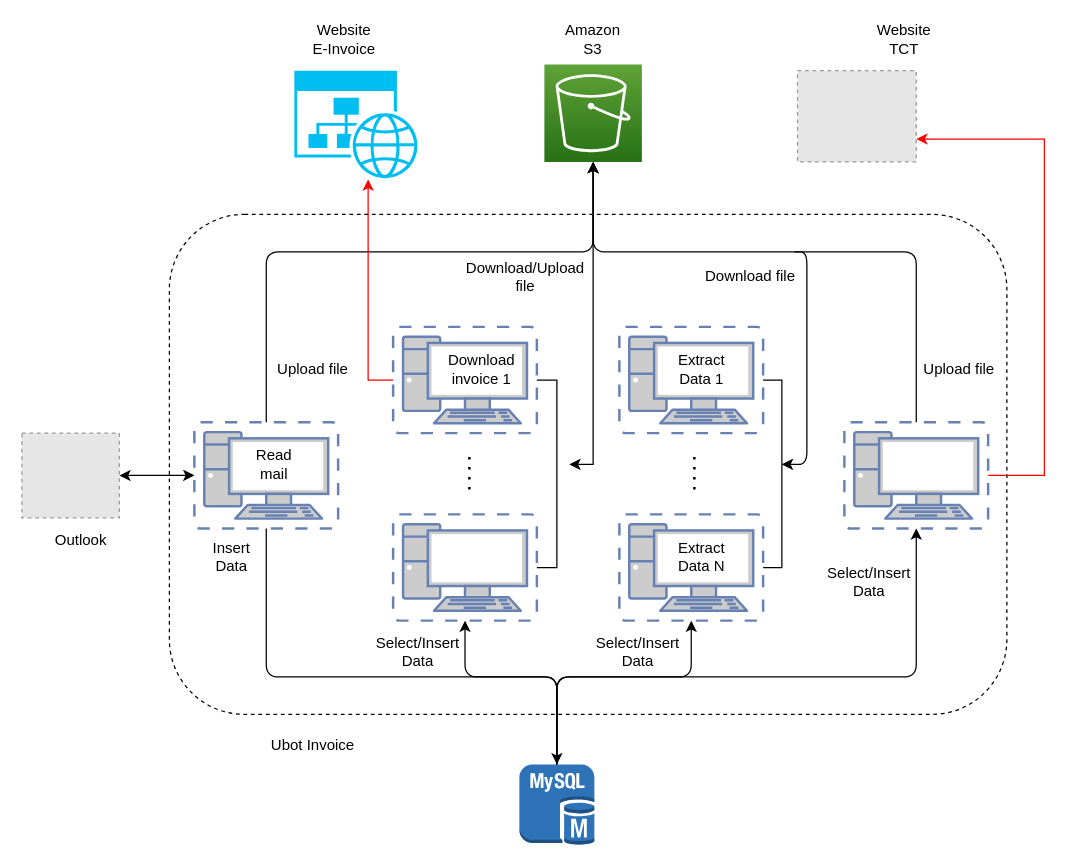
This 1076x868 diagram has some shape labels left out. Grey dashed boxes stand in for pictures. Each missing label, with the box of its shape:
Download invoice N: (391, 512, 538, 621)
Lookup invoice: (842, 420, 989, 529)
